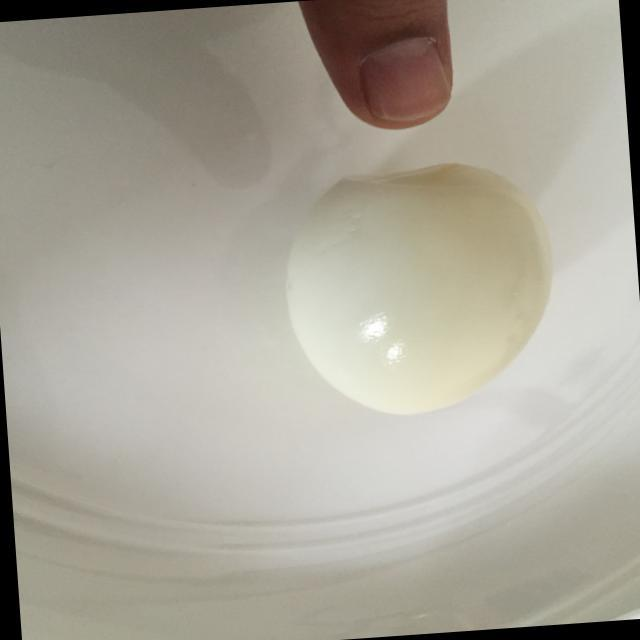Egg: (247, 141, 578, 441)
Finger: (287, 0, 480, 146)
